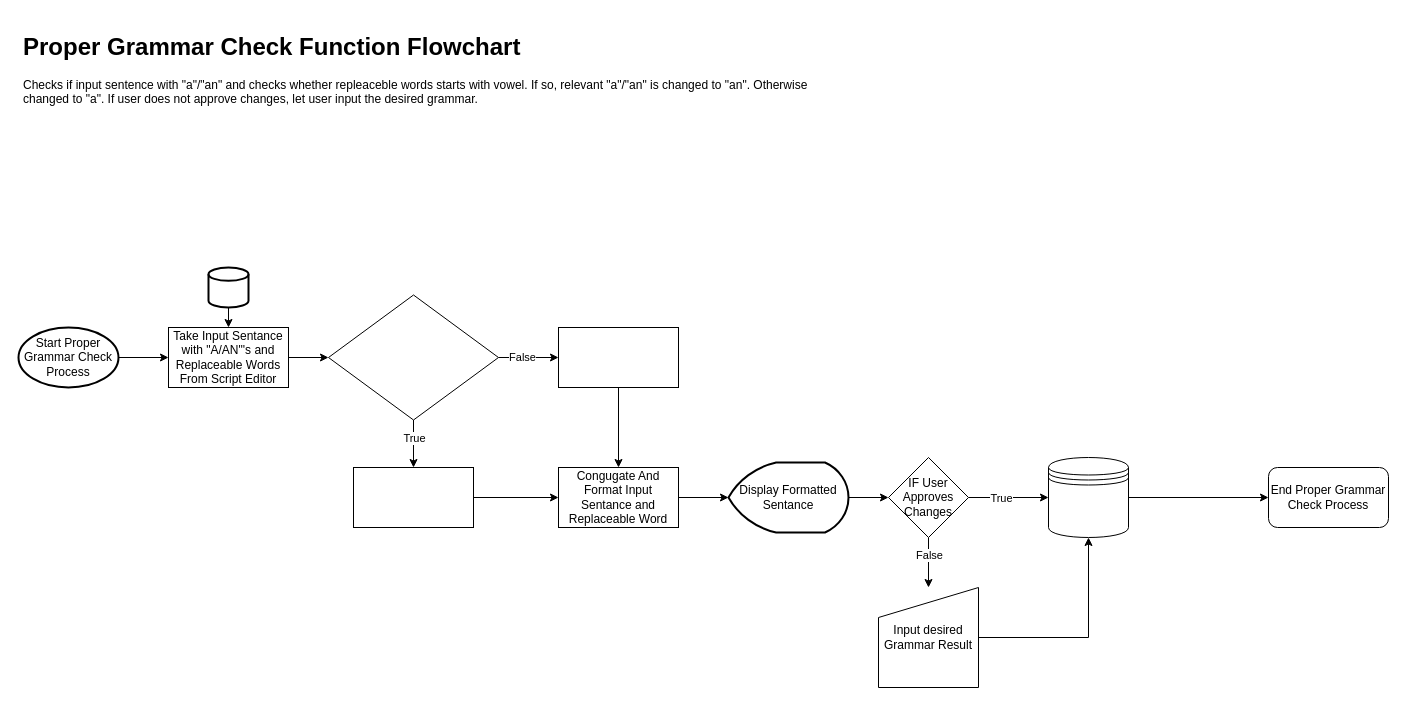
This 1406x705 diagram has some shape labels left out. Each missing label, with the centre of its shape:
If Replaceable Word starts with a Vowel: (x=413, y=357)
Relevant "A/AN" is changed to "a": (x=618, y=357)
Relevant "A/AN" is changed to "an": (x=413, y=497)
Save To Database: (x=1088, y=497)
